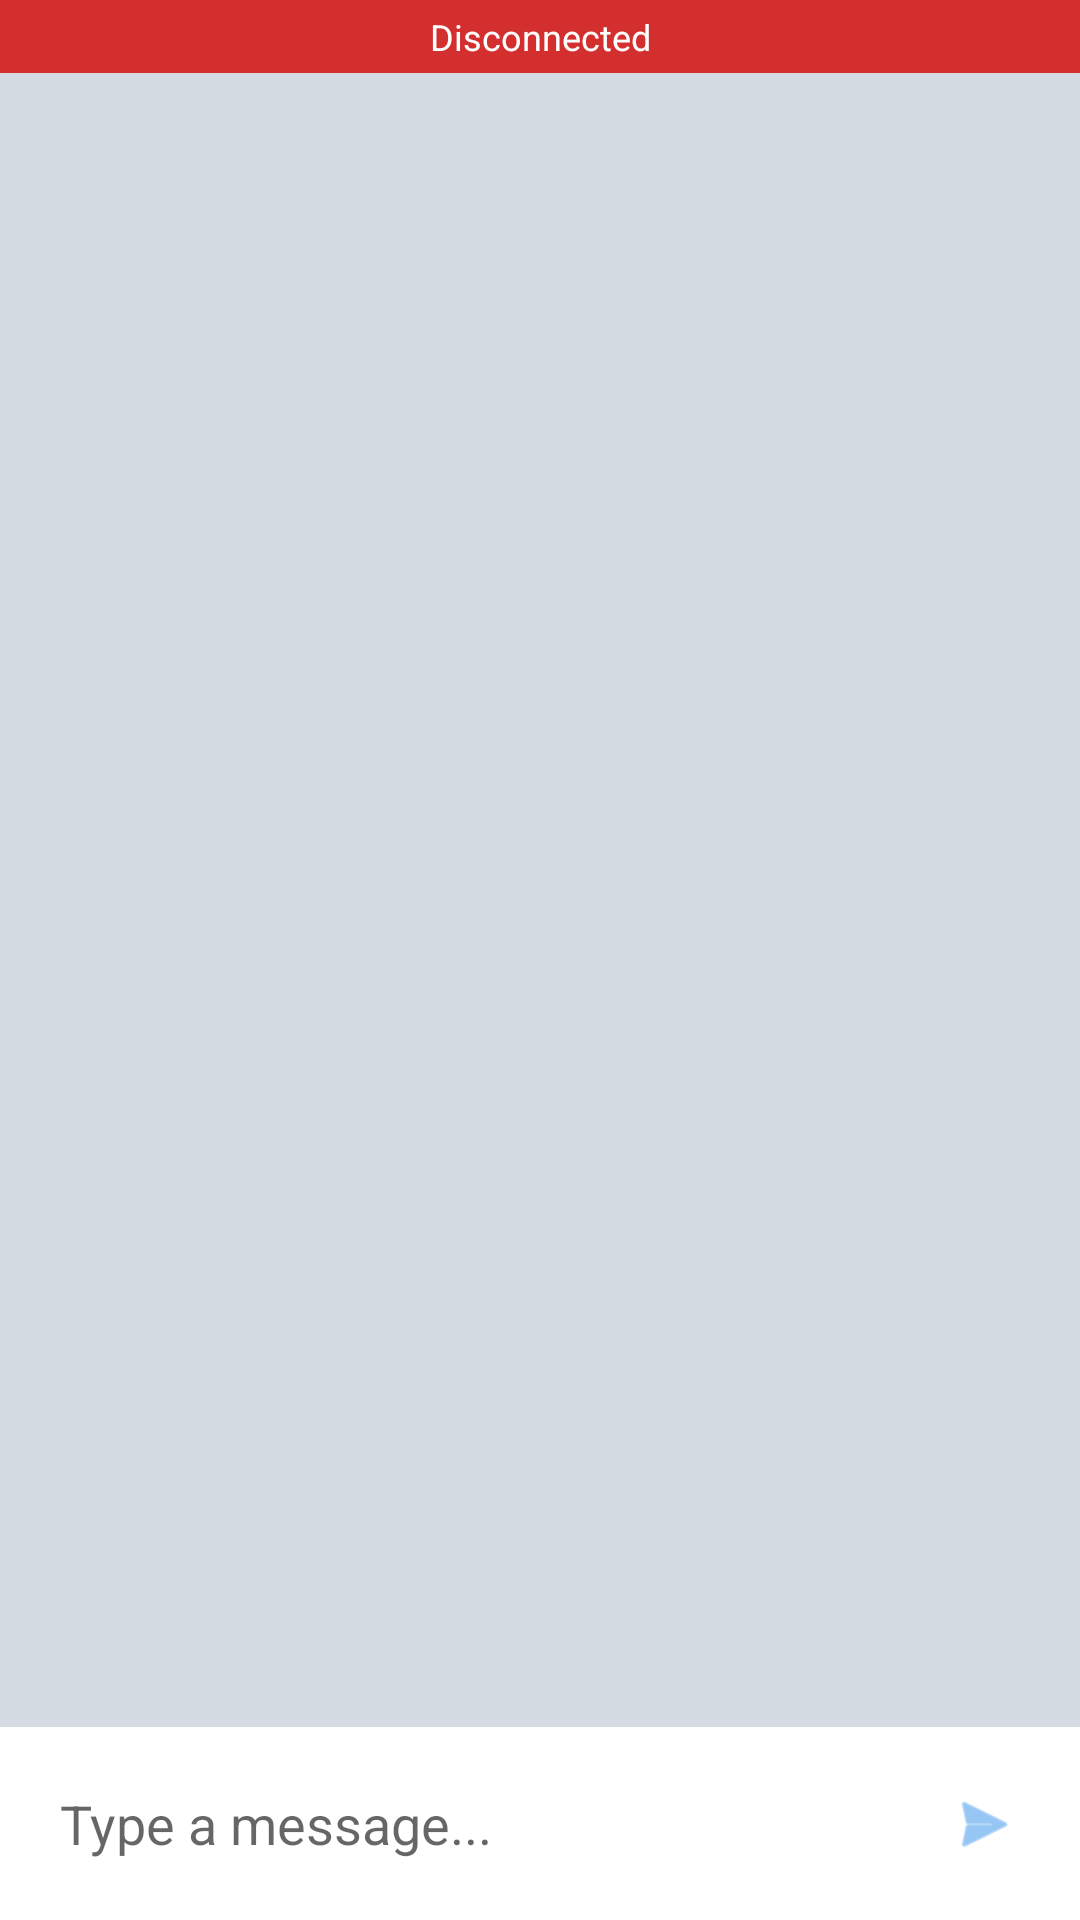

Point at icon controls on the screen. Image size 1080px×1920px, points as [x,y].
send: [985,1824]
